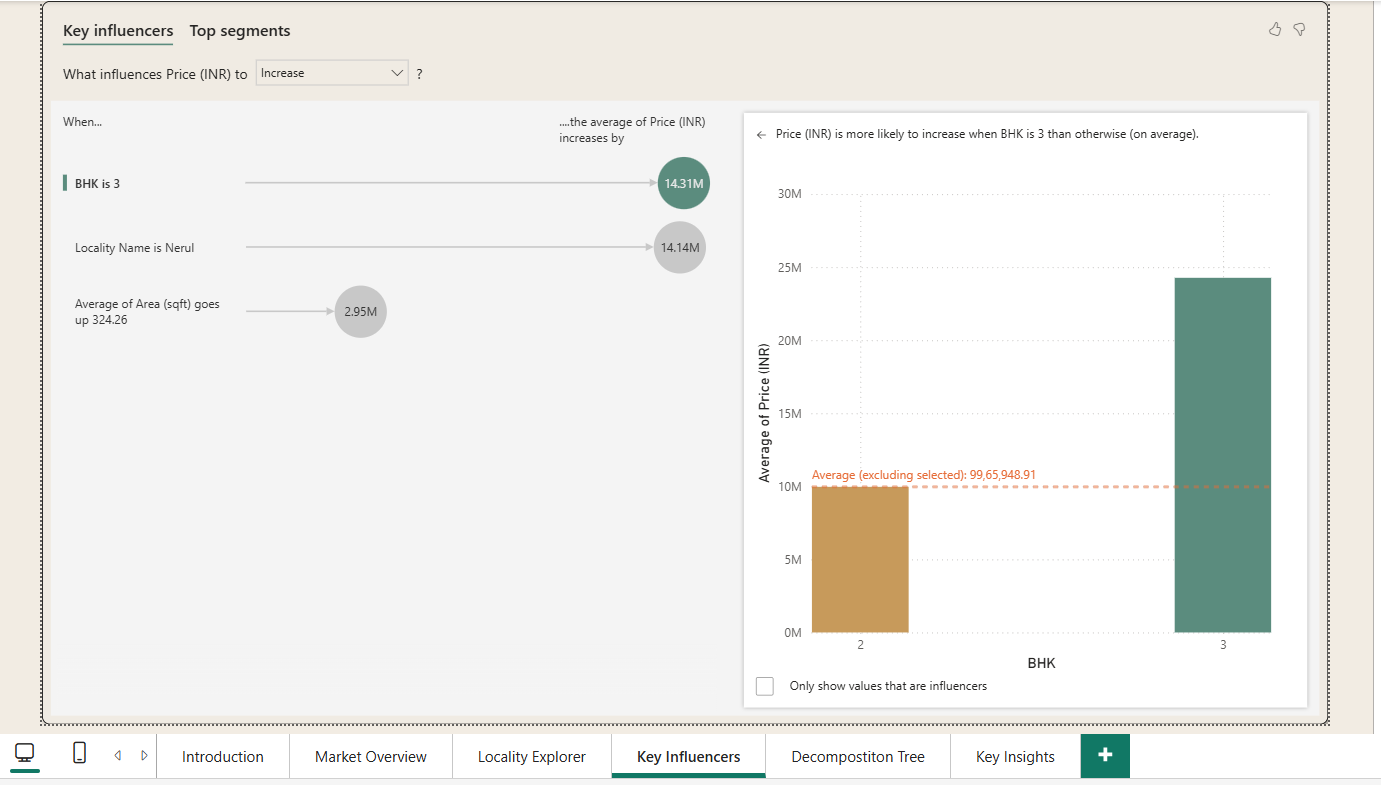

What the dashboard file says about the page in this screenshot:
{"tool":"powerbi","page":{"name":"Key Influencers","canvas":[1280,720],"ordinal":3},"visuals":[{"type":"keyDriversVisual","fields":{"ExplainBy":["localities.Locality Name","properties.BHK","properties.Furnishing","properties.Transaction Type","Avg(properties.Area (sqft))"],"Target":["properties.Price (INR)"]},"box":[0,0,1280,720],"z":0}]}

Visuals, with their boxes on the page's 1280x720 design canvas (x1, y1, x2, y2). These are canvas units, not pixel positions in the 1381x785 screenshot, which may show the page scaled, cropped or inside an application window:
keyDriversVisual - localities.Locality Name x properties.BHK: {"left": 0, "top": 0, "right": 1280, "bottom": 720}
